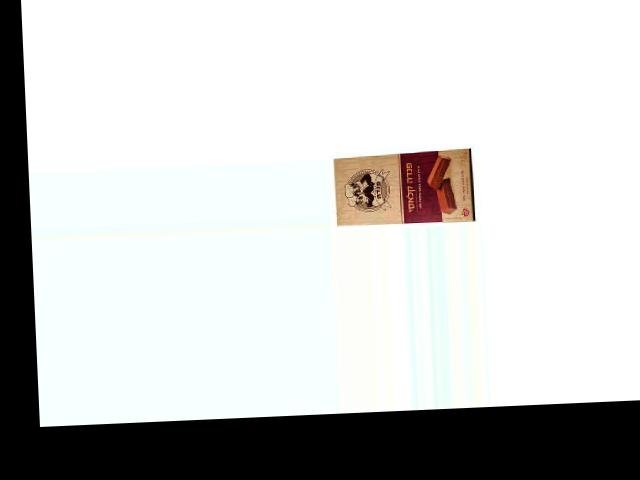chocolate: (332, 146, 475, 225)
